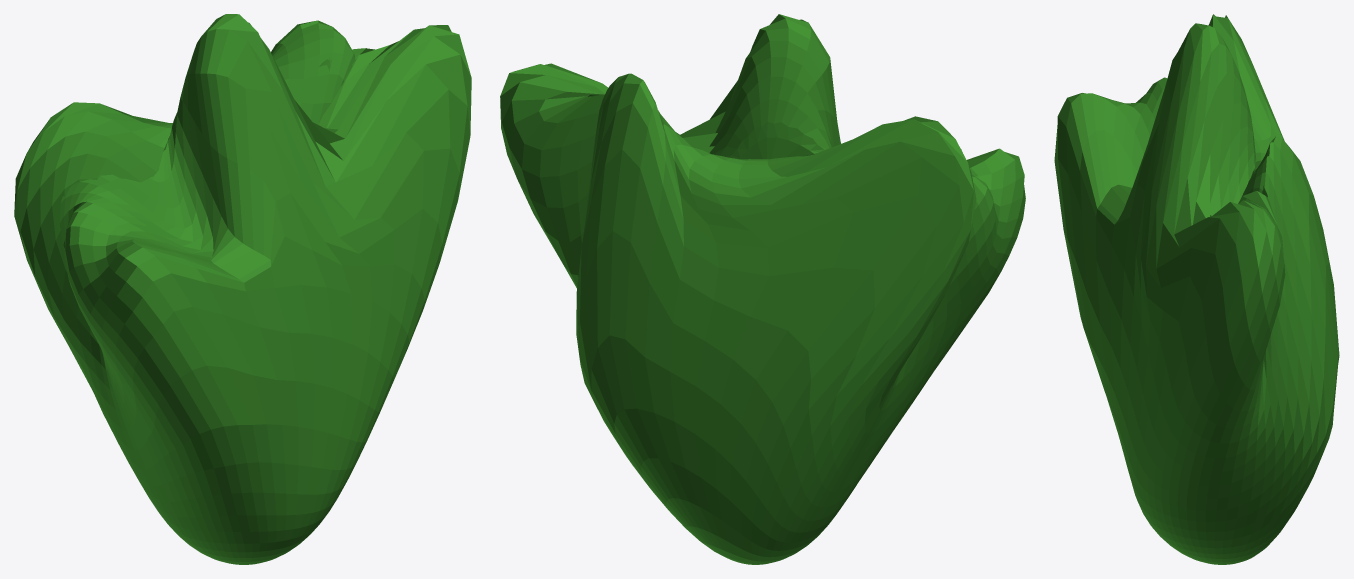
File: трава одна.fbx
3 views of the same model, side by side, from view 1: azimuth 30°, elevation 25°; view 2: azimuth 150°, elevation 25°; view 3: azimuth 270°, elevation 25° (orthographic). The views are drawn at different scales.
Visible parts, largest first — view 1: Sphere; view 2: Sphere; view 3: Sphere.
Boxes of the visible parts, x1,y1,x2,y2 form: Sphere: [14, 14, 471, 564]; Sphere: [500, 14, 1025, 564]; Sphere: [1054, 14, 1339, 564].
Bounding box in the file's own units: 81.91 × 92.53 × 46.
